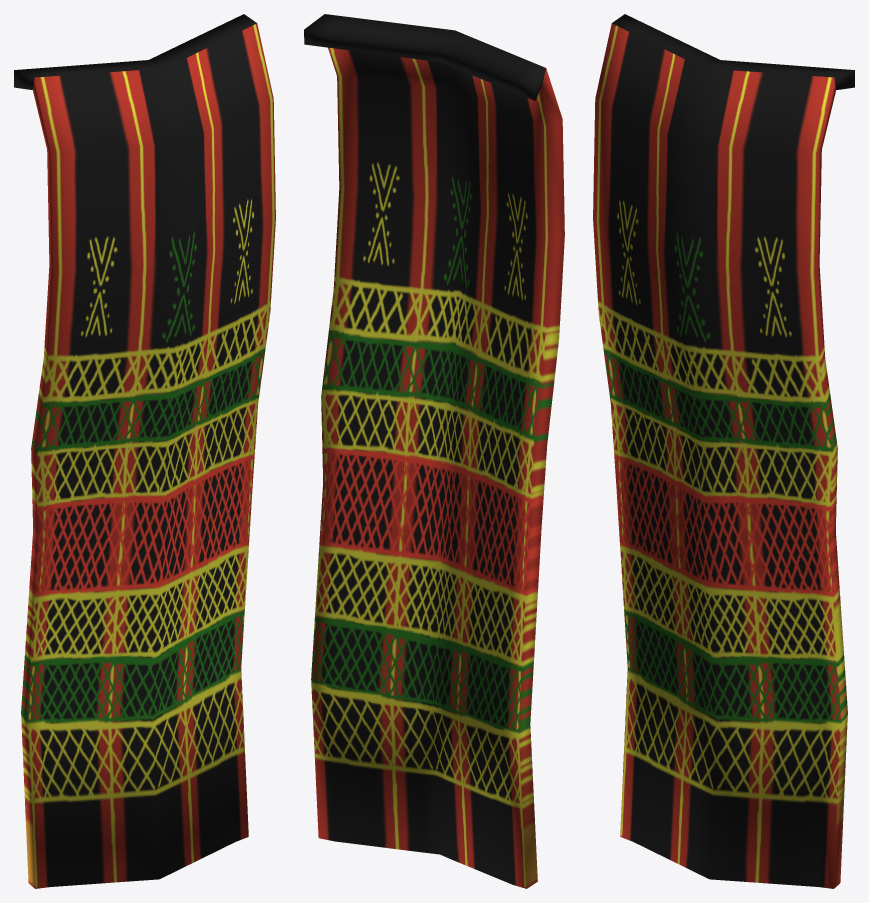
The model's file is dumakulem bahag.fbx.
The picture shows the model from 3 angles, left to right: view 1: azimuth 30°, elevation 25°; view 2: azimuth 150°, elevation 25°; view 3: azimuth 330°, elevation 25°; orthographic projection.
Visible parts, largest first — view 1: Dumakulem Bahag.002; view 2: Dumakulem Bahag.002; view 3: Dumakulem Bahag.002.
Part boxes in pixels (<box>): Dumakulem Bahag.002: <box>14,14,275,888</box>; Dumakulem Bahag.002: <box>304,14,564,888</box>; Dumakulem Bahag.002: <box>593,14,854,888</box>.
Bounding box in the file's own units: 29.57 × 99.8 × 12.95.
Materials: 1 (1 with a texture image).
